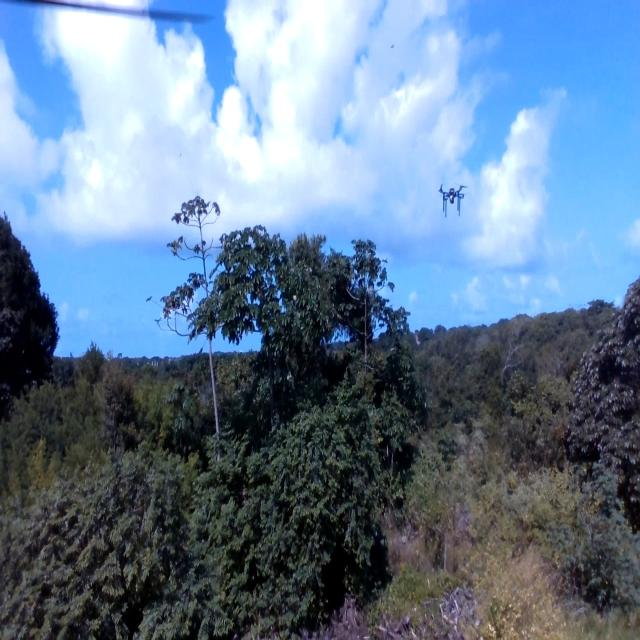-uav-: (430, 173, 475, 233)
